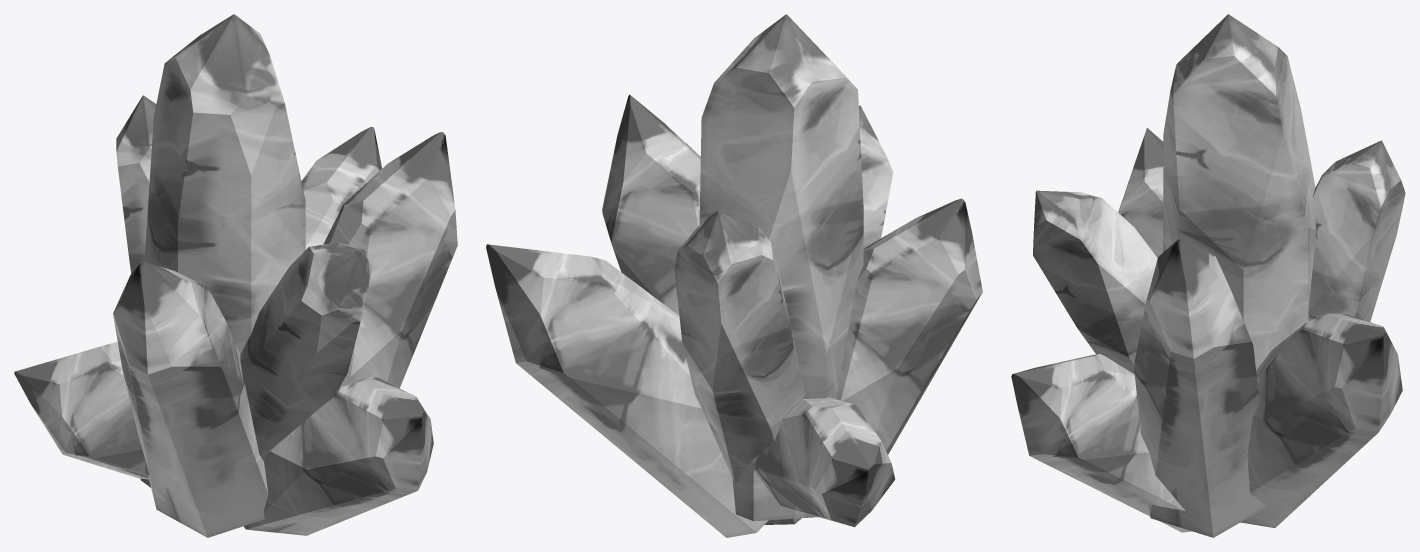
File: Crystal08.fbx
3 renders of one model, left to right at view 1: azimuth 30°, elevation 25°; view 2: azimuth 150°, elevation 25°; view 3: azimuth 270°, elevation 25°, orthographic. The views are drawn at different scales.
Parts seen in each view (by area): view 1: Crystal08; view 2: Crystal08; view 3: Crystal08.
Part boxes in pixels (x1=…): Crystal08: x1=14, y1=14, x2=457, y2=537; Crystal08: x1=486, y1=14, x2=982, y2=537; Crystal08: x1=1011, y1=14, x2=1405, y2=537.
Size of the model in its own units: 2.71 by 3.59 by 2.58.
